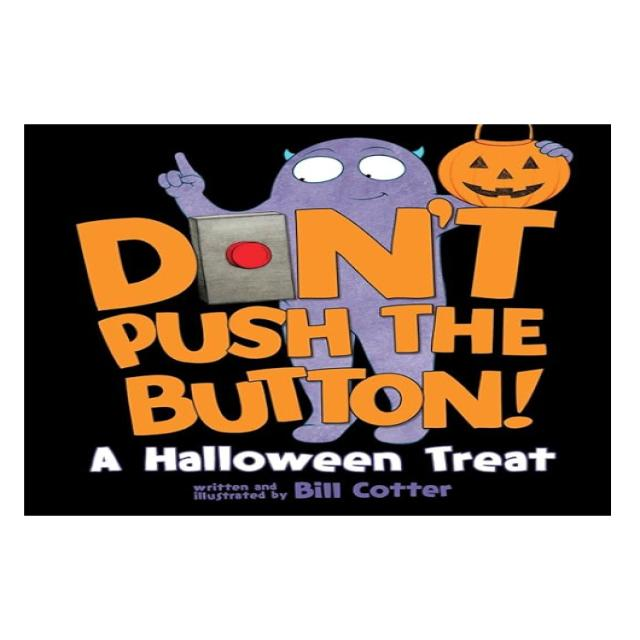titles-or-authors: (70, 195, 566, 476), (285, 478, 465, 502)
